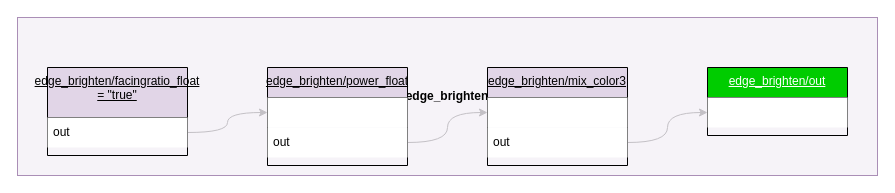
This 895x193 diagram has some shape labels left out. The shapes that lost their labels are listed below. From the top down, each one's centre as x and y in pixels, then its label:
At [337,112]: "in1".
At [557,112]: "mix".
At [777,112]: "in".
